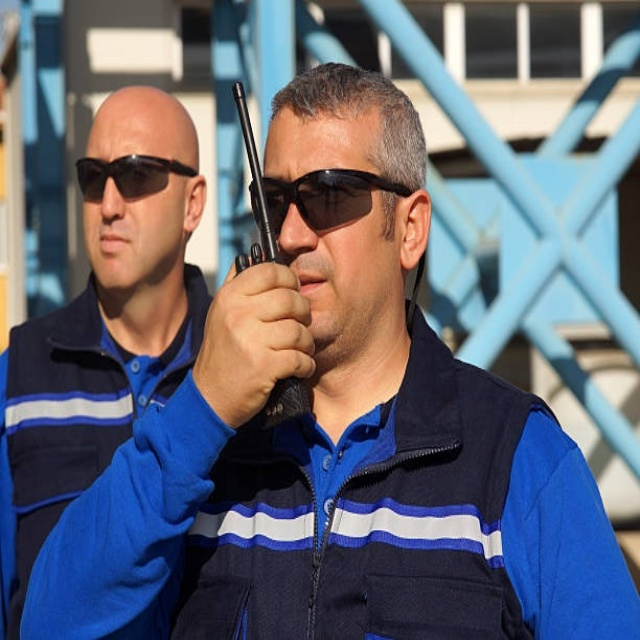Gafas: (250, 168, 412, 236), (76, 155, 198, 202)
Sin_guantes: (200, 250, 313, 407)
Sin_mascara: (295, 255, 337, 314), (92, 228, 138, 273)
